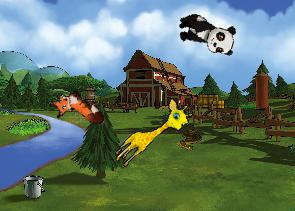fox: (45, 81, 107, 141)
giraffe: (110, 93, 196, 177)
panda: (173, 10, 239, 58)
